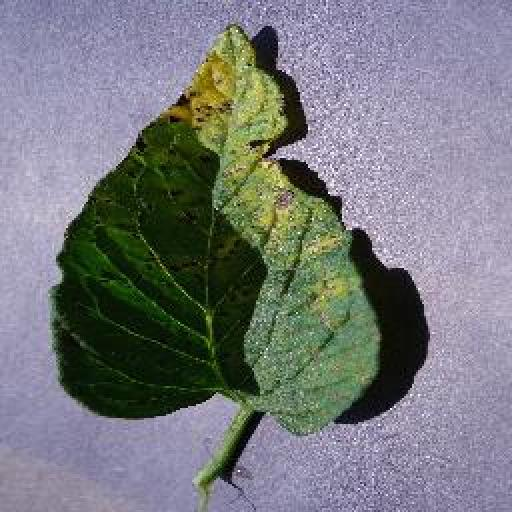Septoria: (48, 25, 382, 440)
